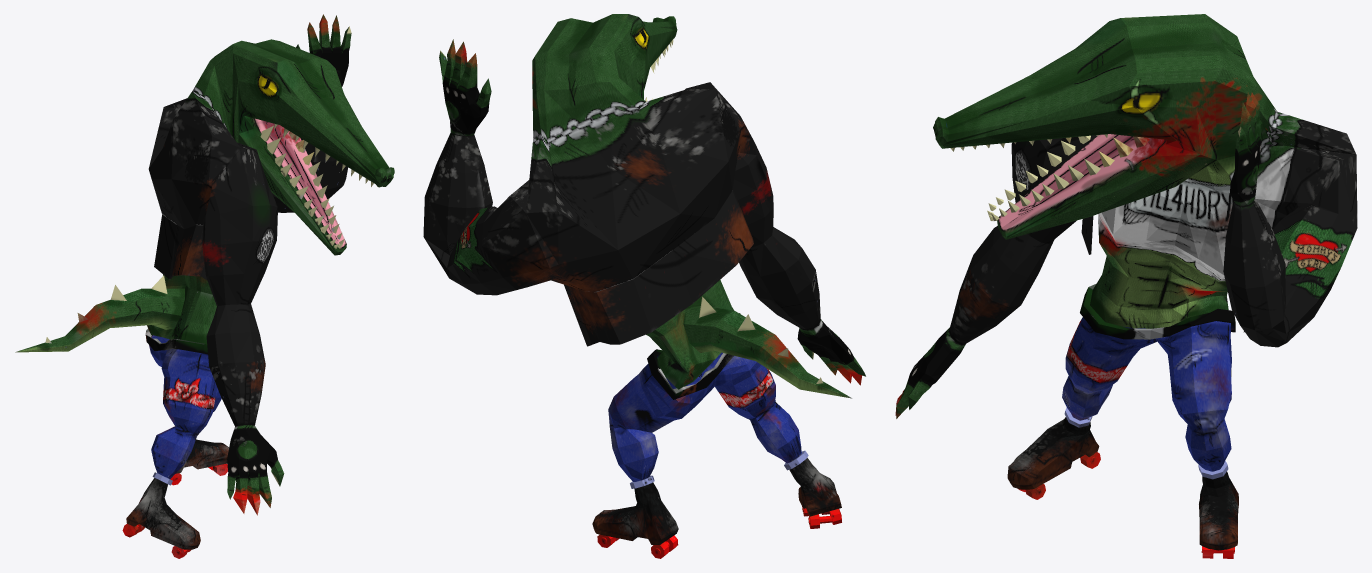
File: cocodrilaBonesSelect_000063.obj
3 renders of one model, left to right at view 1: azimuth 30°, elevation 25°; view 2: azimuth 150°, elevation 25°; view 3: azimuth 270°, elevation 25°, orthographic. The views are drawn at different scales.
Visible parts, largest first — view 1: Crocodile.002_Cylinder.002; view 2: Crocodile.002_Cylinder.002; view 3: Crocodile.002_Cylinder.002.
Boxes of the visible parts, x1,y1,x2,y2 form: Crocodile.002_Cylinder.002: (15, 14, 394, 558); Crocodile.002_Cylinder.002: (423, 14, 865, 558); Crocodile.002_Cylinder.002: (895, 14, 1357, 558).
Size of the model in its own units: 5.25 by 6.16 by 4.63.
